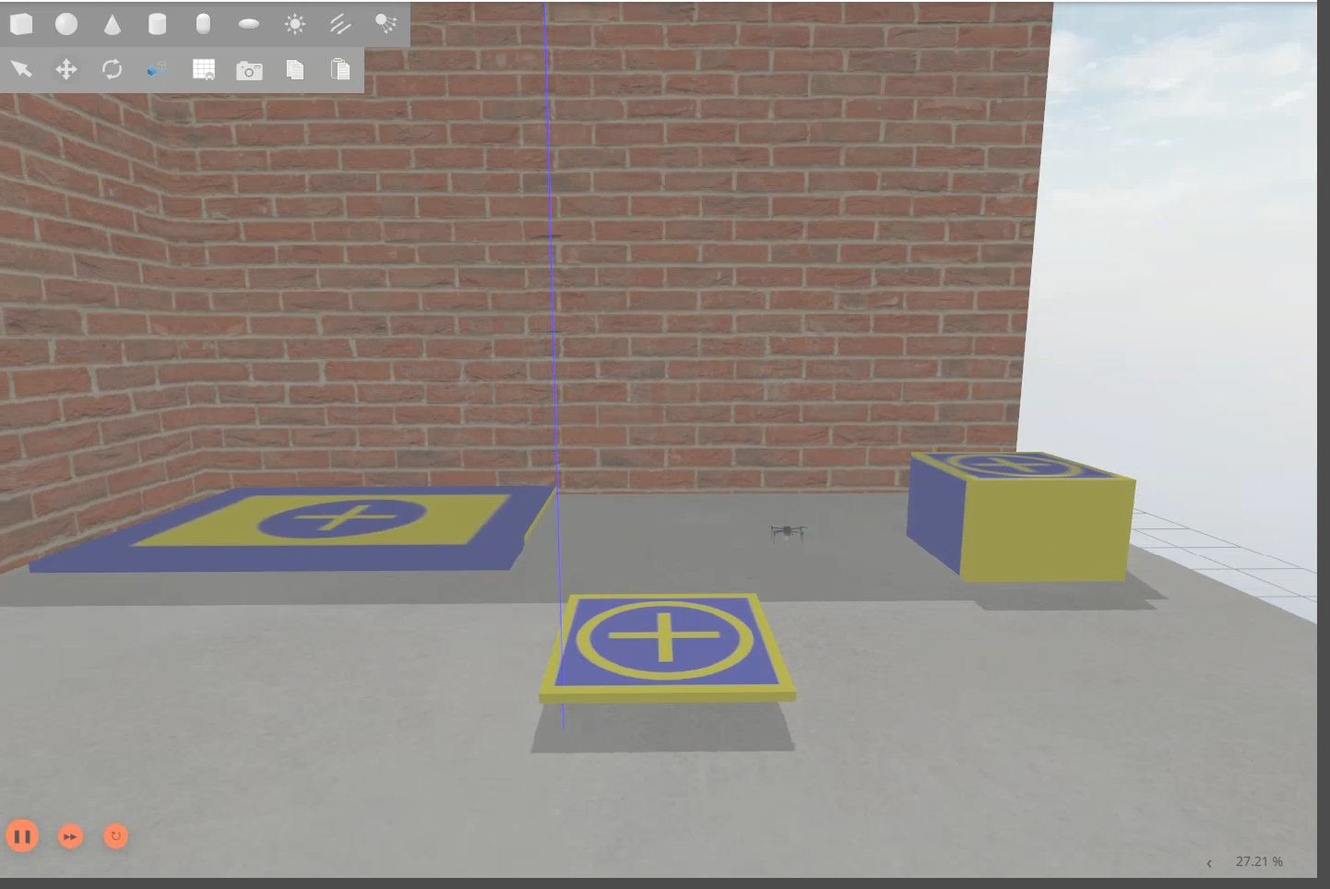large_base: (35, 483, 557, 572)
small_base: (540, 594, 801, 705), (912, 446, 1134, 490)
